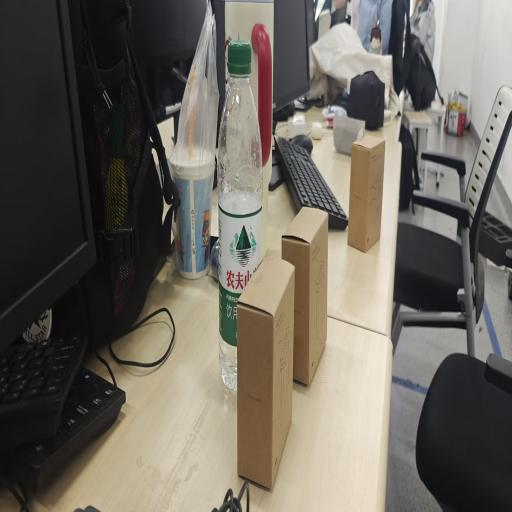bottle: (217, 40, 264, 391)
box: (237, 258, 295, 490), (281, 207, 328, 385), (347, 135, 385, 253)
